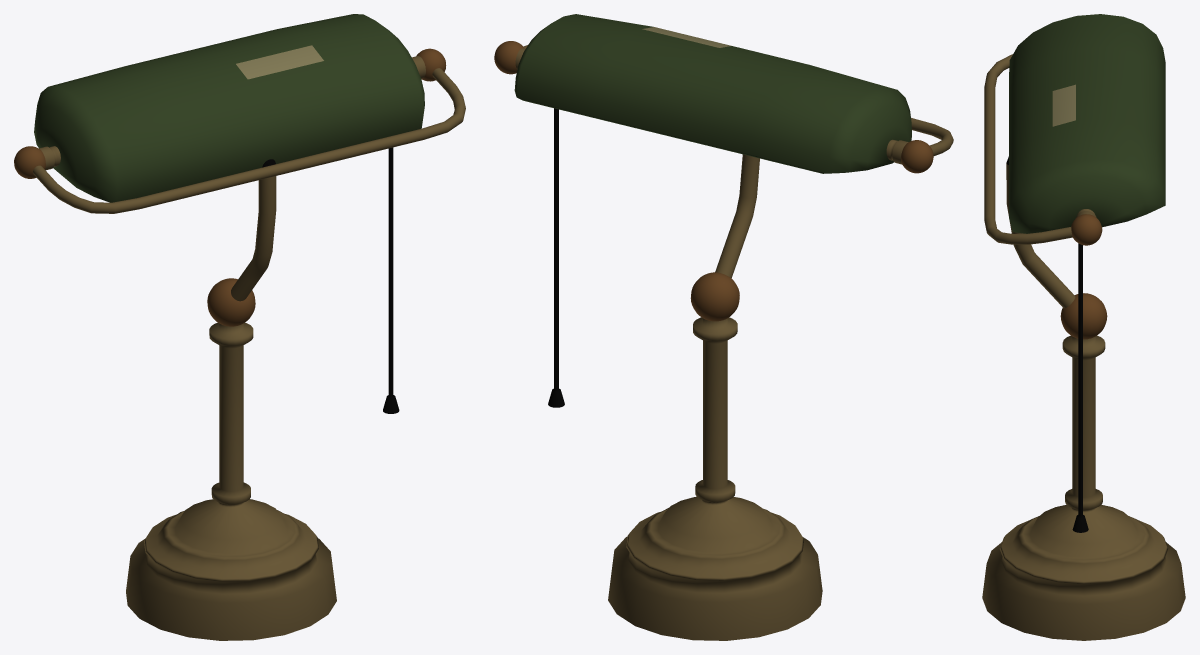
File: Lamp.fbx
The picture shows the model from 3 angles, left to right: view 1: azimuth 30°, elevation 25°; view 2: azimuth 150°, elevation 25°; view 3: azimuth 270°, elevation 25°; orthographic projection. The views are drawn at different scales.
Parts seen in each view (by area): view 1: desk_lamp1; view 2: desk_lamp1; view 3: desk_lamp1.
Part boxes in pixels (x1,y1,x2,y2): desk_lamp1: (14, 14, 465, 640); desk_lamp1: (494, 14, 953, 640); desk_lamp1: (982, 14, 1185, 640).
Size of the model in its own units: 60.46 by 72.55 by 25.97.
